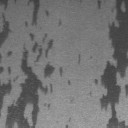red iron: (0, 0, 62, 128), (94, 0, 128, 128), (98, 0, 102, 9), (59, 20, 62, 25), (68, 80, 70, 85), (66, 124, 68, 128)
